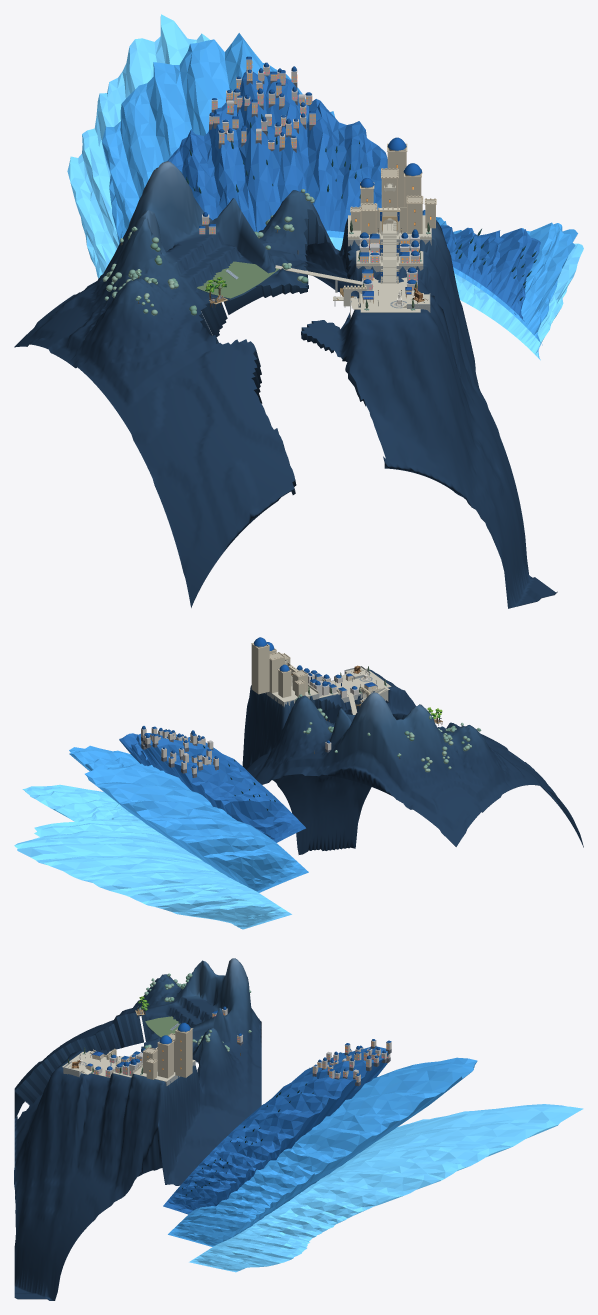
The model's file is source-v1.glb.
3 renders of one model, top to bottom at view 1: azimuth 30°, elevation 25°; view 2: azimuth 150°, elevation 25°; view 3: azimuth 270°, elevation 25°, orthographic. The views are drawn at different scales.
Visible parts, largest first — view 1: citadel-oskar-grid-mountain-surface, citadel-backdrop-ridge-near, citadel-backdrop-ridge-mid, citadel-backdrop-ridge-far, target-castle-exterior (×2), citadel-coastal-cliff-seal, citadel-target-hillside-houses-claude-exterior-0, highland-town-foundation-platform, citadel-target-hillside-houses-claude-exterior-5, west-city-plaza-deck; view 2: citadel-oskar-grid-mountain-surface, citadel-backdrop-ridge-far, citadel-backdrop-ridge-mid, citadel-backdrop-ridge-near, target-castle-exterior, citadel-target-hillside-houses-claude-exterior-0, citadel-coastal-cliff-seal; view 3: citadel-oskar-grid-mountain-surface, citadel-backdrop-ridge-far, citadel-backdrop-ridge-mid, citadel-backdrop-ridge-near, citadel-coastal-cliff-seal, target-castle-exterior, citadel-target-hillside-houses-claude-exterior-0, highland-town-foundation-platform.
Boxes of the visible parts, <box> form: citadel-oskar-grid-mountain-surface: <box>14,161,557,608</box>; citadel-backdrop-ridge-near: <box>167,71,540,321</box>; citadel-backdrop-ridge-mid: <box>102,33,577,345</box>; citadel-backdrop-ridge-far: <box>67,14,583,360</box>; target-castle-exterior (×2): <box>350,143,436,234</box>; citadel-coastal-cliff-seal: <box>199,209,365,494</box>; citadel-target-hillside-houses-claude-exterior-0: <box>199,60,315,234</box>; highland-town-foundation-platform: <box>197,261,279,298</box>; citadel-target-hillside-houses-claude-exterior-5: <box>199,56,315,228</box>; west-city-plaza-deck: <box>360,292,420,312</box>; citadel-oskar-grid-mountain-surface: <box>242,669,583,854</box>; citadel-backdrop-ridge-far: <box>14,784,291,929</box>; citadel-backdrop-ridge-mid: <box>69,745,308,892</box>; citadel-backdrop-ridge-near: <box>119,733,305,842</box>; target-castle-exterior: <box>251,643,307,697</box>; citadel-target-hillside-houses-claude-exterior-0: <box>141,729,331,774</box>; citadel-coastal-cliff-seal: <box>290,691,456,728</box>; citadel-oskar-grid-mountain-surface: <box>14,958,261,1300</box>; citadel-backdrop-ridge-far: <box>189,1104,583,1272</box>; citadel-backdrop-ridge-mid: <box>168,1057,477,1246</box>; citadel-backdrop-ridge-near: <box>163,1046,388,1214</box>; citadel-coastal-cliff-seal: <box>15,1011,202,1105</box>; target-castle-exterior: <box>143,1028,192,1079</box>; citadel-target-hillside-houses-claude-exterior-0: <box>222,1009,391,1082</box>; highland-town-foundation-platform: <box>145,1016,180,1037</box>.
Bounding box in the file's own units: 349 × 217 × 425.
Materials: 122 (1 with a texture image).
